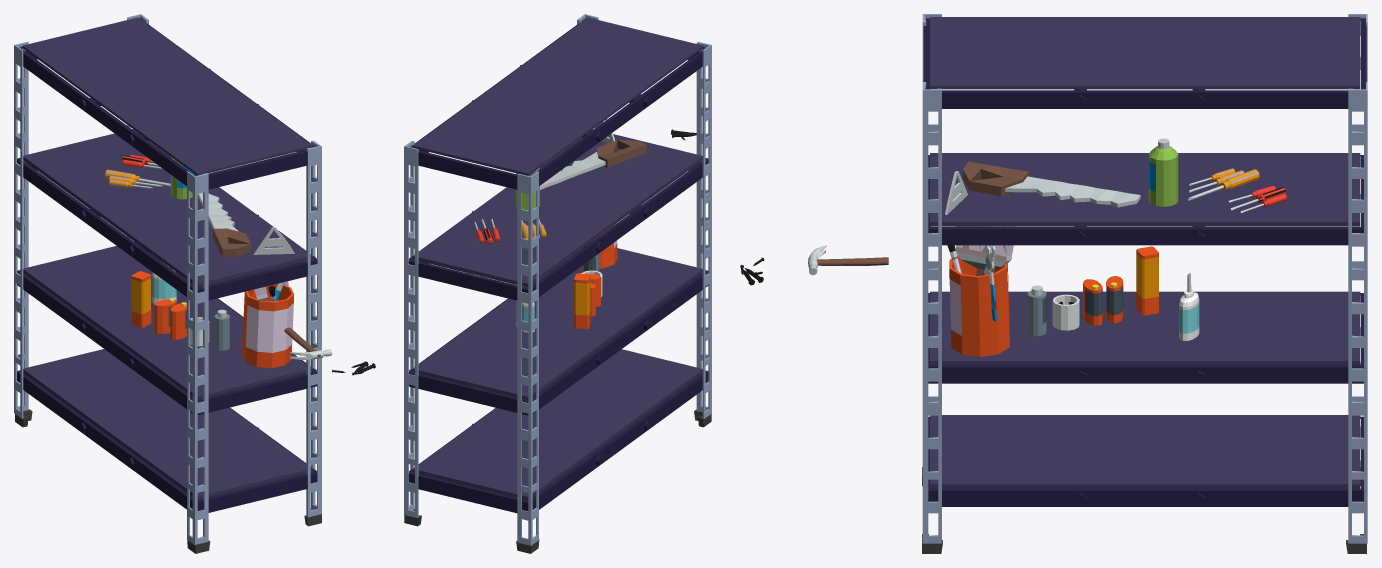
Rendered from compressed_Decors_4.glb.
3 renders of one model, left to right at view 1: azimuth 30°, elevation 25°; view 2: azimuth 150°, elevation 25°; view 3: azimuth 270°, elevation 25°, orthographic. The views are drawn at different scales.
Parts seen in each view (by area): view 1: Shelf_Cube.004, propTools1, Hand Saw, group348818362, group1673330486.063, oilProps, group1903879849, group1677974325, group634296461, Glue; view 2: Shelf_Cube.004, Hand Saw, group348818362, propTools1; view 3: Shelf_Cube.004, propTools1, Hand Saw, group1416475030, group348818362, Paint Brush, Glue, group1115598653, oilProps, group634296461, group1677974325, group1903879849.
Boxes of the visible parts, x1=… form: Shelf_Cube.004: x1=14, y1=14, x2=321, y2=553; propTools1: x1=242, y1=283, x2=294, y2=368; Hand Saw: x1=197, y1=192, x2=250, y2=257; group348818362: x1=131, y1=271, x2=151, y2=327; group1673330486.063: x1=253, y1=227, x2=294, y2=254; oilProps: x1=214, y1=309, x2=229, y2=350; group1903879849: x1=154, y1=299, x2=176, y2=334; group1677974325: x1=170, y1=303, x2=186, y2=339; group634296461: x1=284, y1=327, x2=332, y2=359; Glue: x1=152, y1=263, x2=176, y2=303; Shelf_Cube.004: x1=404, y1=14, x2=711, y2=553; Hand Saw: x1=540, y1=140, x2=646, y2=189; group348818362: x1=574, y1=273, x2=590, y2=328; propTools1: x1=568, y1=223, x2=617, y2=268; Shelf_Cube.004: x1=922, y1=14, x2=1367, y2=553; propTools1: x1=949, y1=255, x2=1009, y2=356; Hand Saw: x1=963, y1=161, x2=1140, y2=207; group1416475030: x1=1148, y1=138, x2=1178, y2=206; group348818362: x1=1136, y1=246, x2=1158, y2=315; Paint Brush: x1=956, y1=226, x2=1015, y2=276; Glue: x1=1179, y1=273, x2=1199, y2=340; group1115598653: x1=1052, y1=294, x2=1079, y2=330; oilProps: x1=1027, y1=285, x2=1046, y2=336; group634296461: x1=808, y1=245, x2=888, y2=275; group1677974325: x1=1083, y1=279, x2=1102, y2=325; group1903879849: x1=1106, y1=276, x2=1123, y2=323.
Size of the model in its own units: 1.18 by 3.31 by 4.05.
